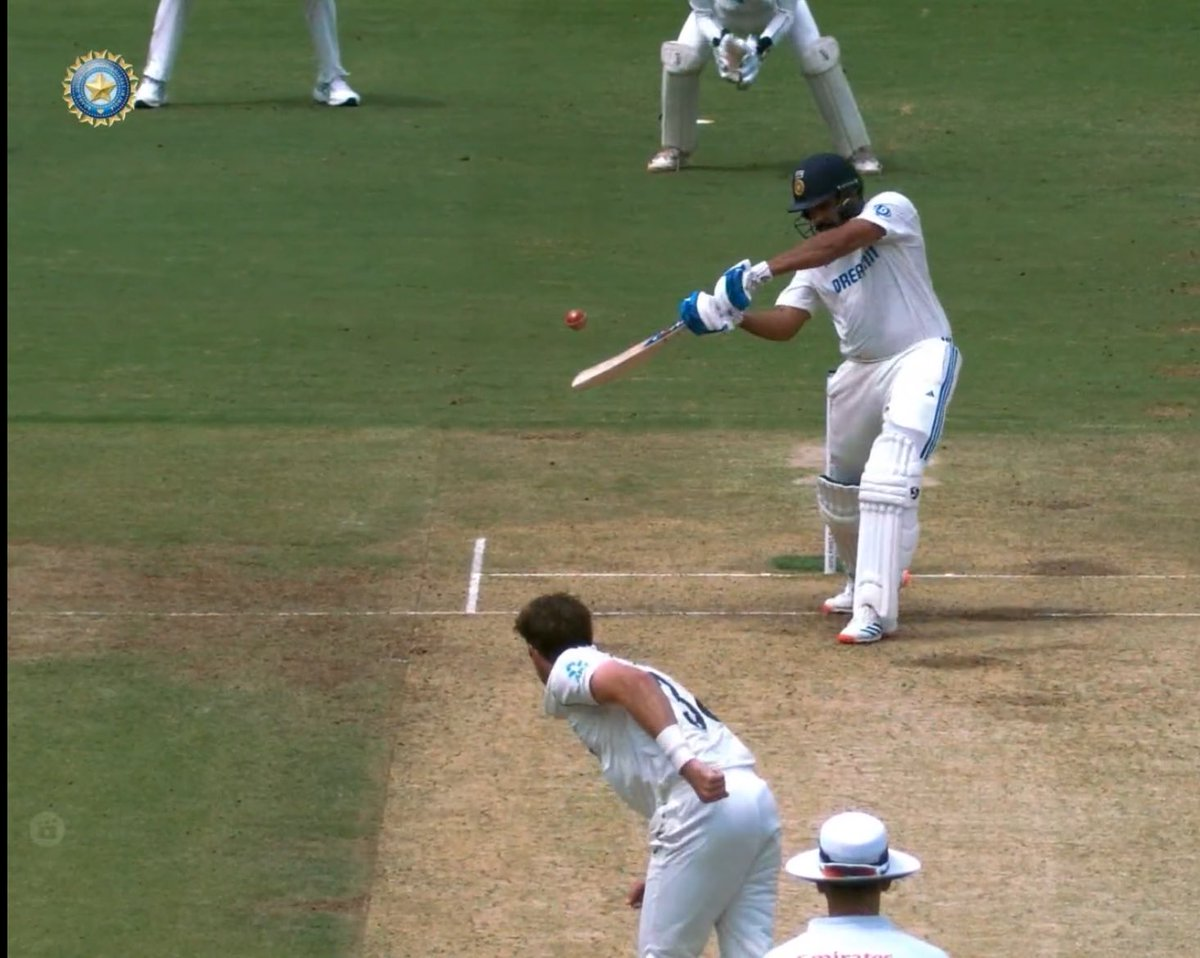Cutshot: (432, 24, 1144, 632)
